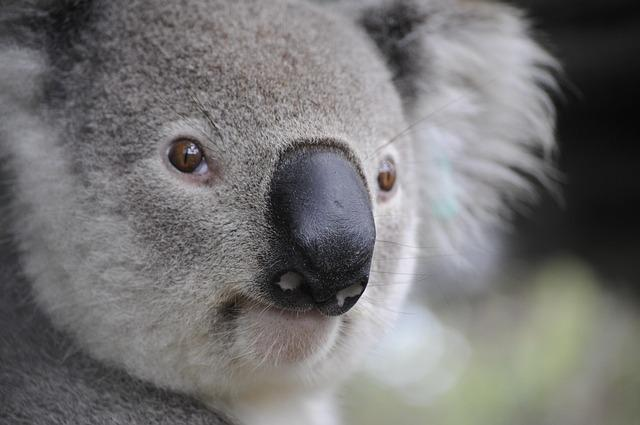Non_Gorille: (59, 3, 586, 425)
